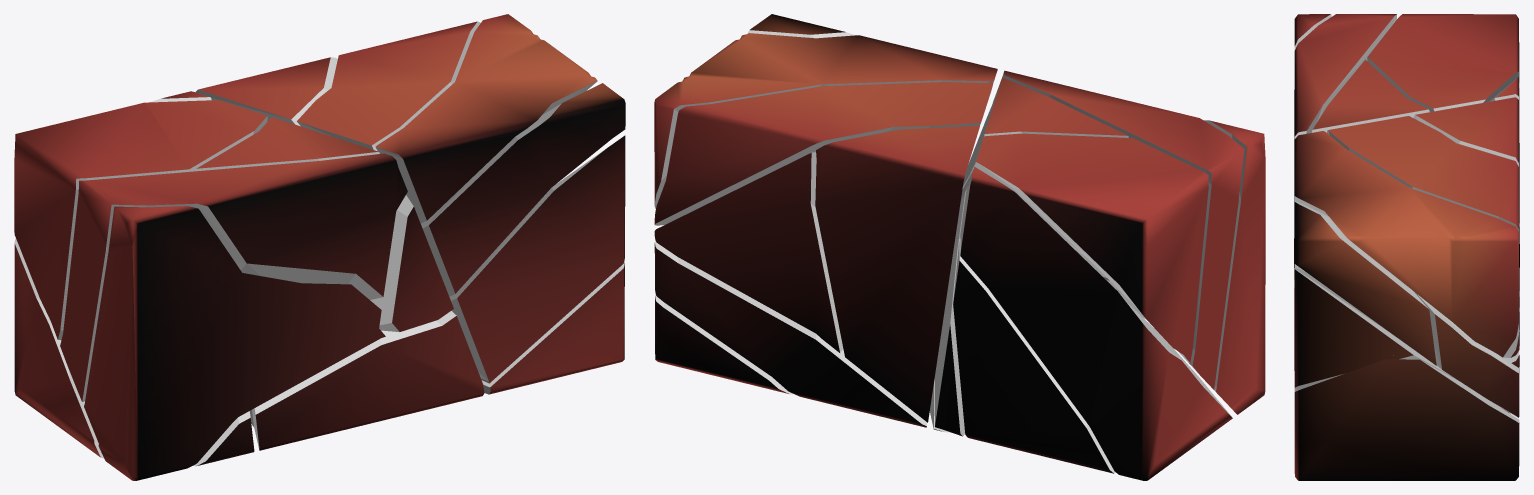
The model's file is Container(2).glb.
3 views of the same model, side by side, from view 1: azimuth 30°, elevation 25°; view 2: azimuth 150°, elevation 25°; view 3: azimuth 270°, elevation 25° (orthographic). The views are drawn at different scales.
Parts seen in each view (by area): view 1: Root, Root.008, Root.004, Root.003, Root.005, Root.014, Root.007, Root.013, Root.012, Root.002, Root.011, Root.001 (+1 smaller); view 2: Root.002, Root.001, Root.004, Root.013, Root.009, Root.010, Root.005, Root.015, Root.008, Root, Root.012, Root.011 (+2 smaller); view 3: Root.005, Root.011, Root.004, Root.013, Root.007, Root.003, Root.008, Root.015, Root.001, Root.012, Root, Root.002.
Boxes of the visible parts, x1,y1,x2,y2 form: Root: [84, 206, 385, 480]; Root.008: [60, 153, 407, 401]; Root.004: [14, 100, 267, 340]; Root.003: [449, 135, 625, 383]; Root.005: [375, 14, 597, 223]; Root.014: [249, 311, 484, 450]; Root.007: [421, 83, 625, 296]; Root.013: [297, 21, 480, 150]; Root.012: [196, 117, 453, 332]; Root.002: [14, 91, 211, 458]; Root.011: [481, 262, 624, 394]; Root.001: [196, 57, 337, 126]; Root.002: [960, 167, 1232, 480]; Root.001: [815, 125, 979, 422]; Root.004: [971, 133, 1208, 362]; Root.013: [654, 82, 993, 225]; Root.009: [654, 152, 843, 352]; Root.010: [953, 239, 1215, 473]; Root.005: [654, 33, 997, 208]; Root.015: [654, 225, 926, 427]; Root.008: [993, 70, 1244, 389]; Root: [1117, 120, 1265, 414]; Root.012: [962, 77, 1128, 277]; Root.011: [655, 294, 793, 394]; Root.005: [1294, 131, 1518, 357]; Root.011: [1294, 359, 1519, 480]; Root.004: [1367, 14, 1519, 111]; Root.013: [1327, 116, 1518, 357]; Root.007: [1294, 201, 1436, 365]; Root.003: [1294, 269, 1459, 391]; Root.008: [1294, 14, 1396, 138]; Root.015: [1394, 291, 1519, 418]; Root.001: [1413, 97, 1519, 350]; Root.012: [1312, 59, 1429, 132]; Root: [1294, 14, 1331, 279]; Root.002: [1489, 77, 1519, 267].
Size of the model in its own units: 3.49 by 1.77 by 1.48.
